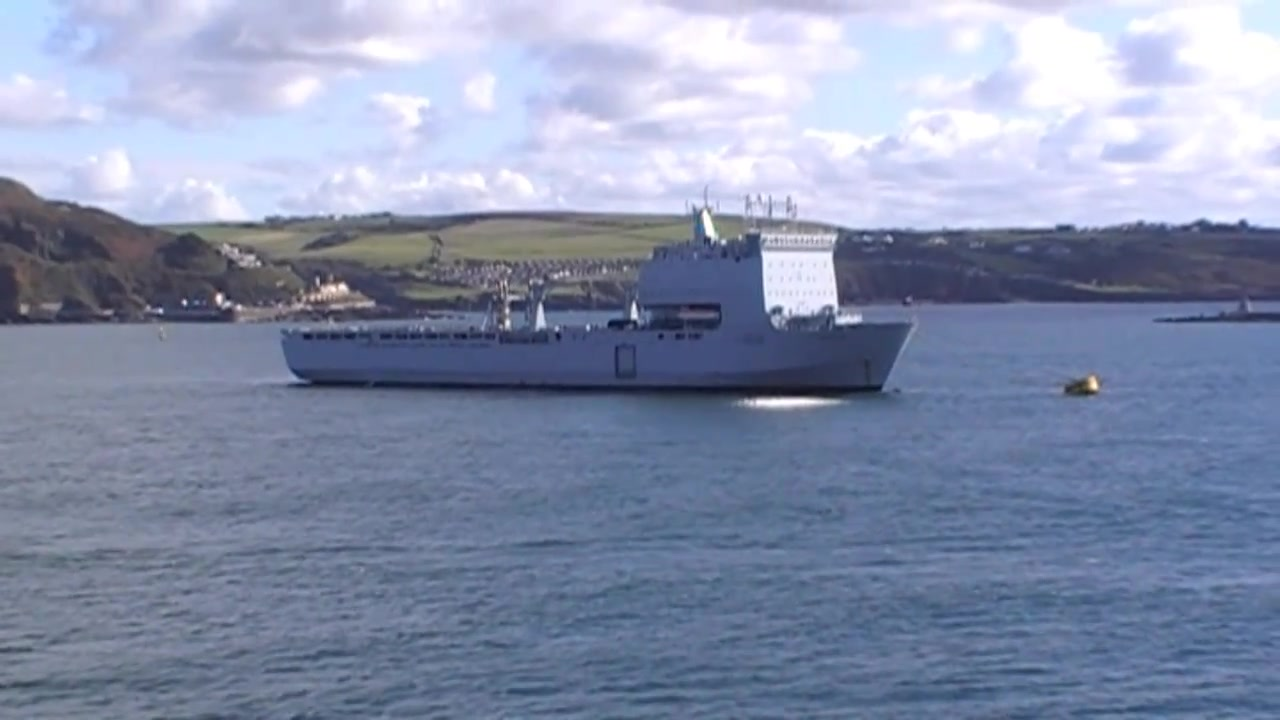boat: (272, 189, 920, 400)
